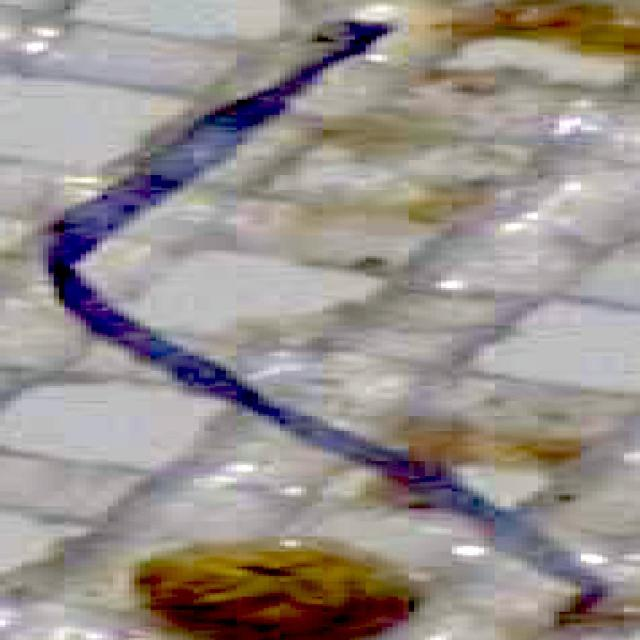beads: (124, 538, 414, 640)
fibers: (0, 0, 1, 1)
